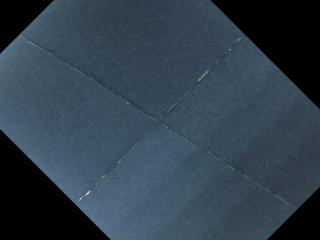crack: (19, 32, 300, 211), (74, 33, 247, 207)
